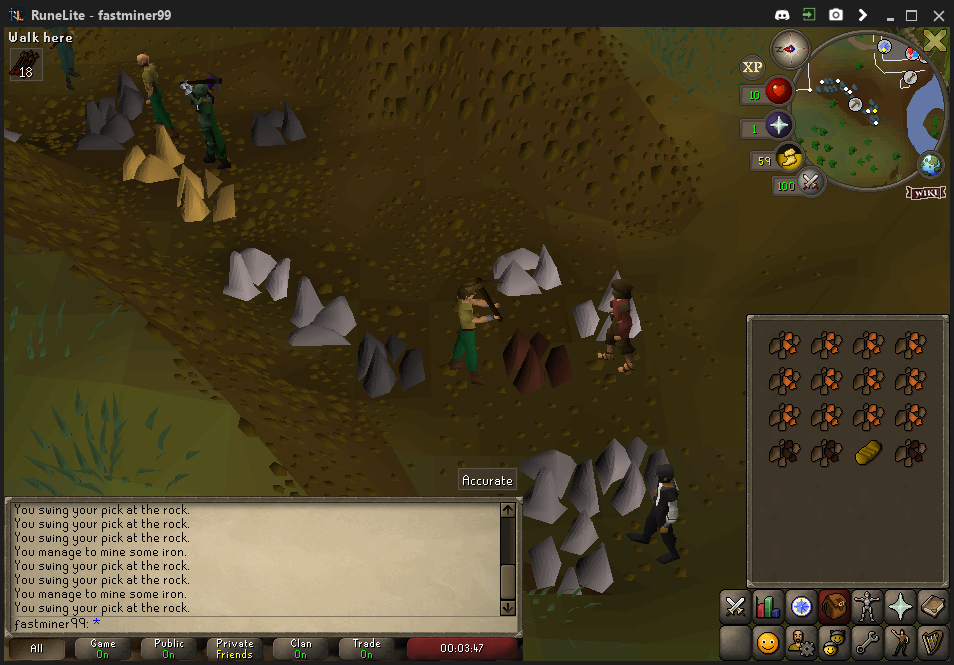depleted: (352, 330, 426, 396)
ore: (498, 327, 577, 392)
